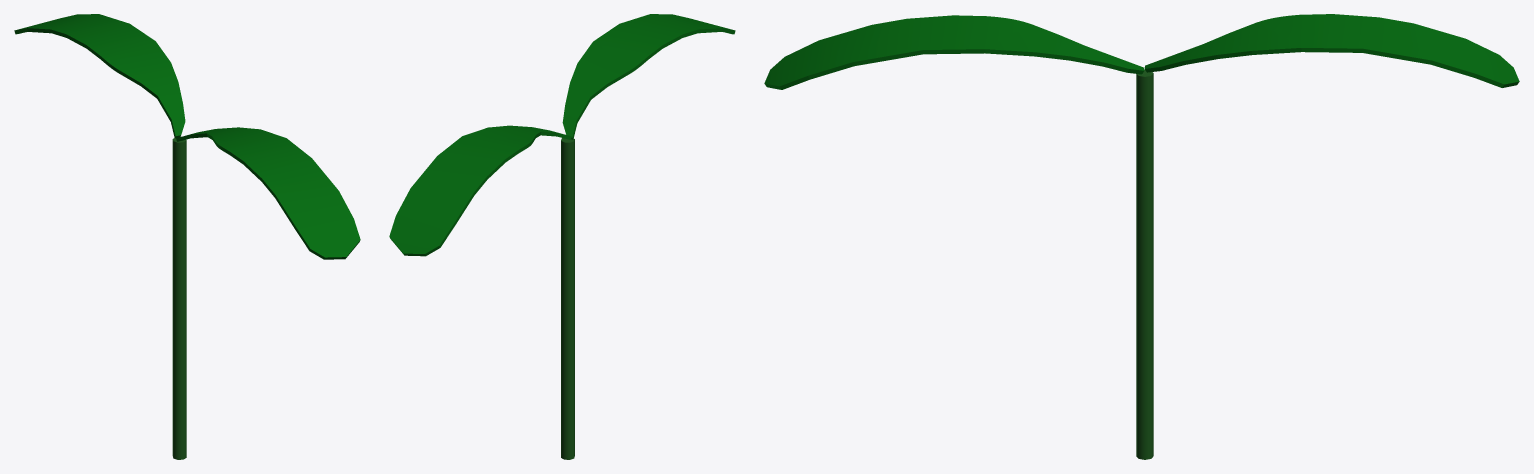
Rendered from 茄子發芽.FBX.
3 renders of one model, left to right at view 1: azimuth 30°, elevation 25°; view 2: azimuth 150°, elevation 25°; view 3: azimuth 270°, elevation 25°, orthographic. The views are drawn at different scales.
Parts seen in each view (by area): view 1: Line001, Line002, Cylinder001; view 2: Line002, Line001, Cylinder001; view 3: Line001, Line002, Cylinder001.
Part boxes in pixels (box(x1,y1,x2,y2)): Line001: box(176, 127, 360, 259); Line002: box(14, 14, 185, 138); Cylinder001: box(172, 138, 186, 459); Line002: box(389, 125, 571, 256); Line001: box(562, 14, 735, 139); Cylinder001: box(561, 138, 574, 459); Line001: box(764, 15, 1144, 89); Line002: box(1144, 14, 1519, 87); Cylinder001: box(1136, 69, 1153, 459).
Bounding box in the file's own units: 5.37 × 30.41 × 48.06.
